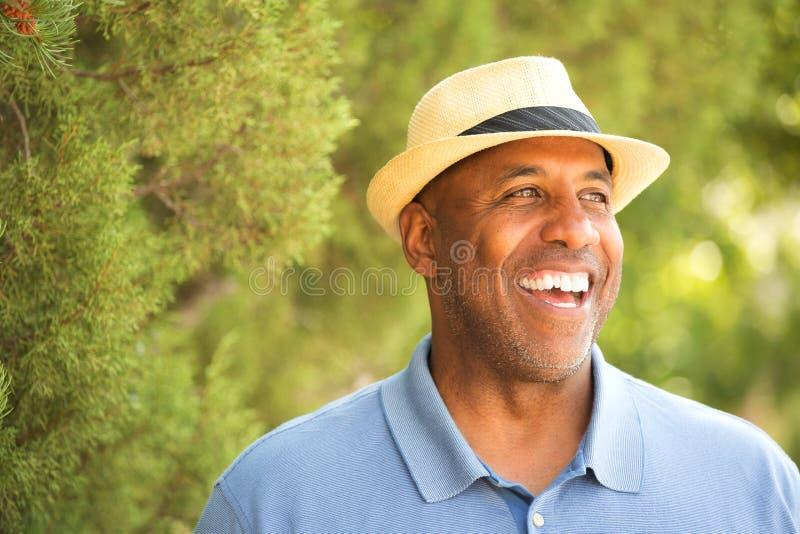cap: (357, 50, 673, 239)
